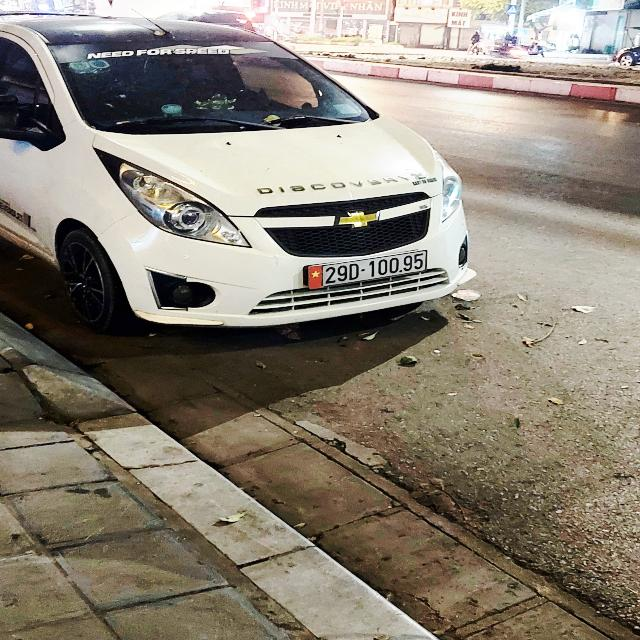license_plate: (309, 251, 428, 290)
